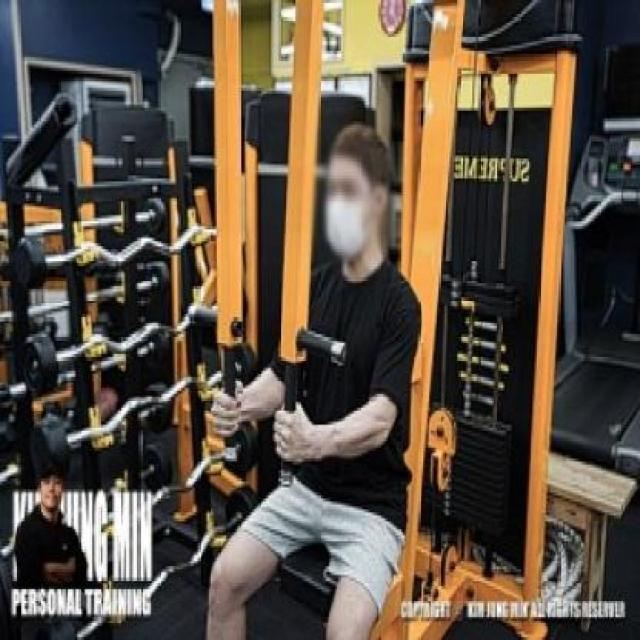chest fly machine: (168, 0, 586, 640)
